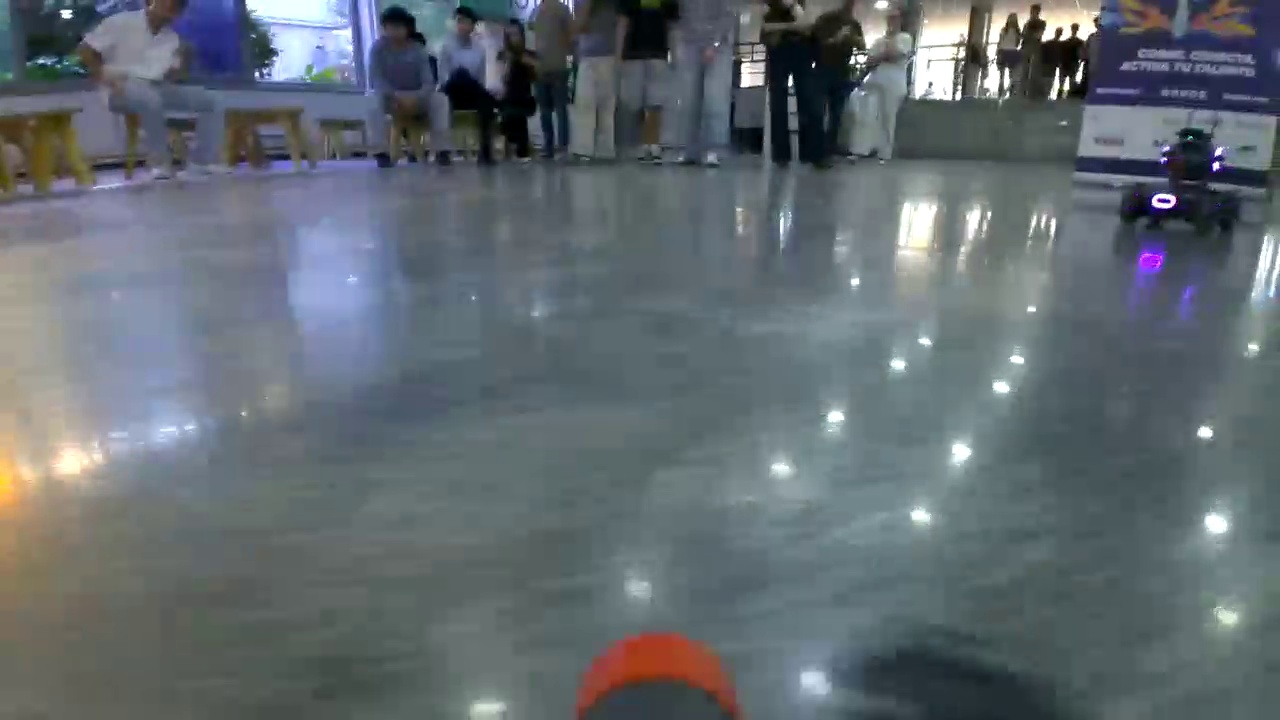robot: (1118, 125, 1230, 225)
